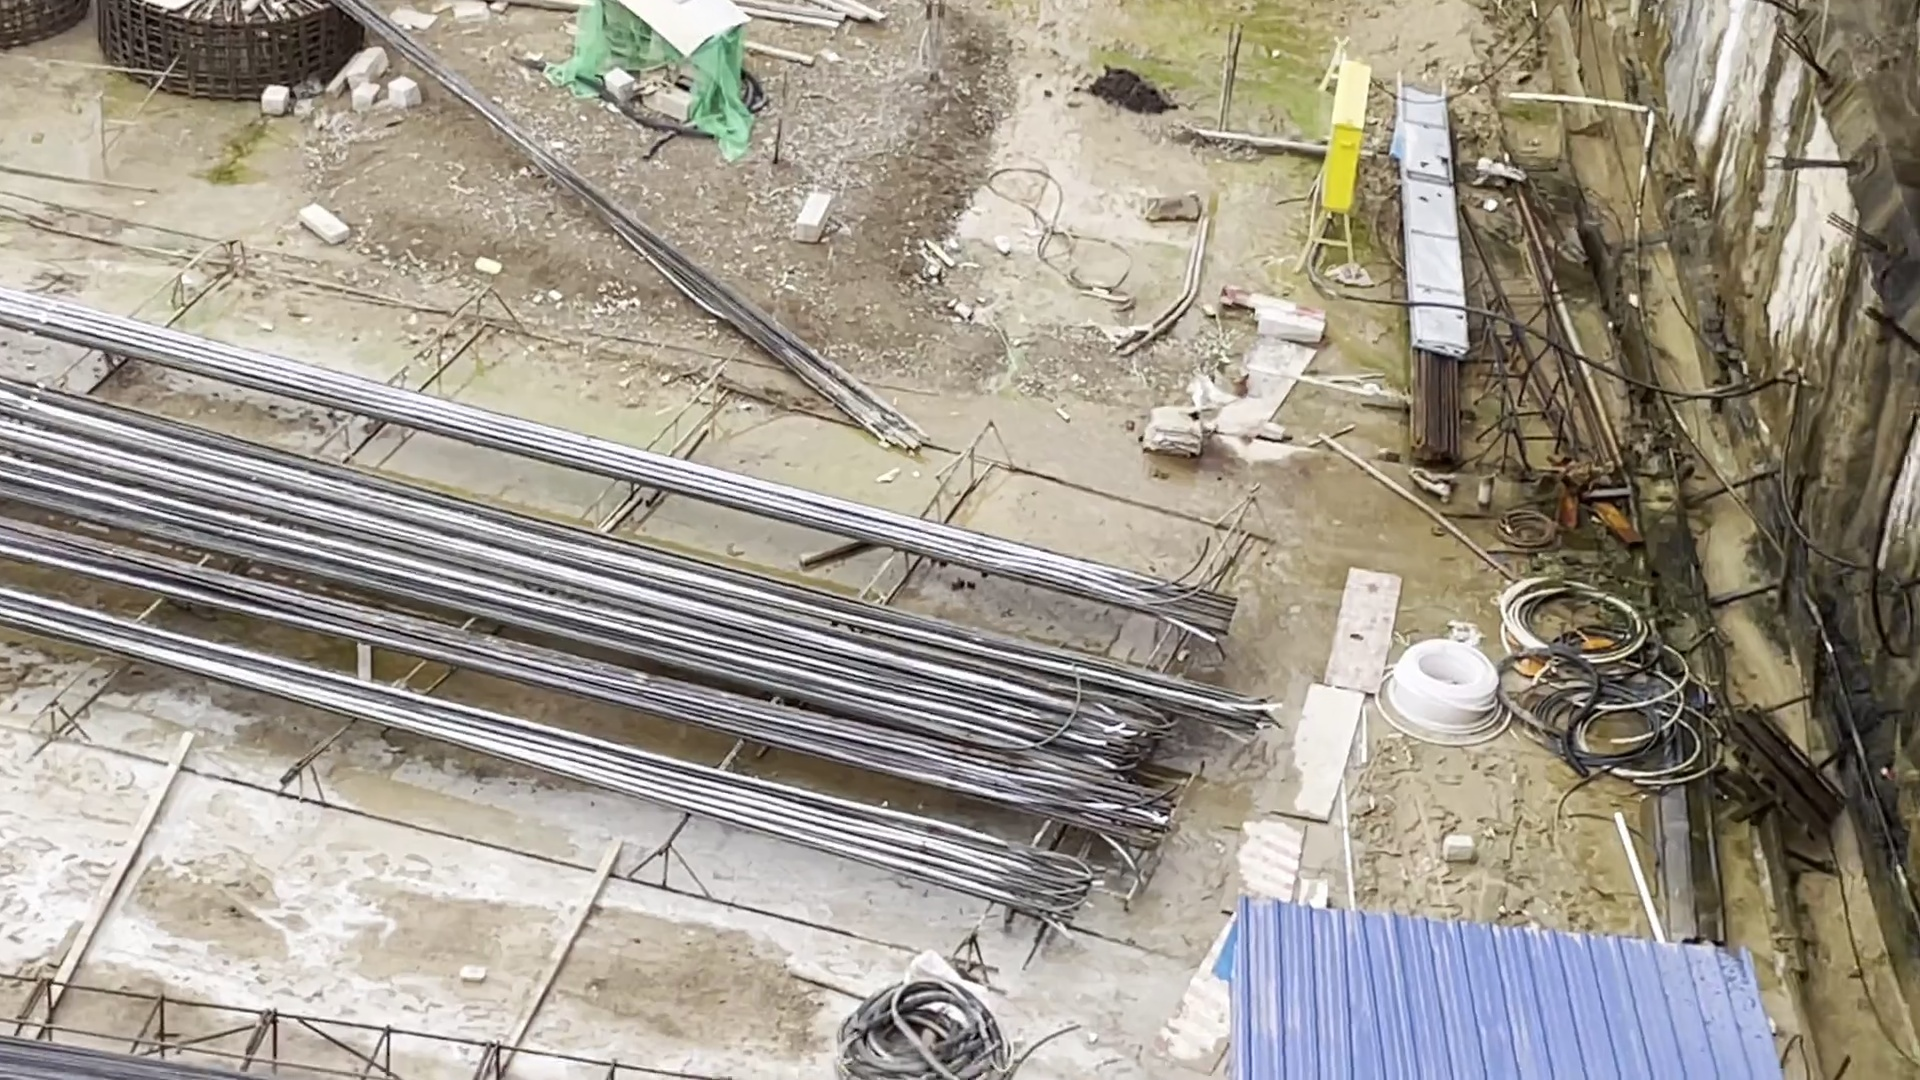ebox: (1307, 58, 1383, 265)
rebar: (1, 301, 1189, 903)
